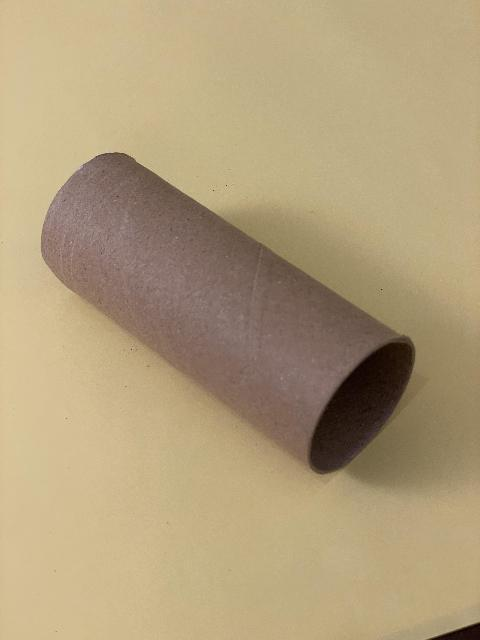tissueroll: (38, 149, 418, 477)
